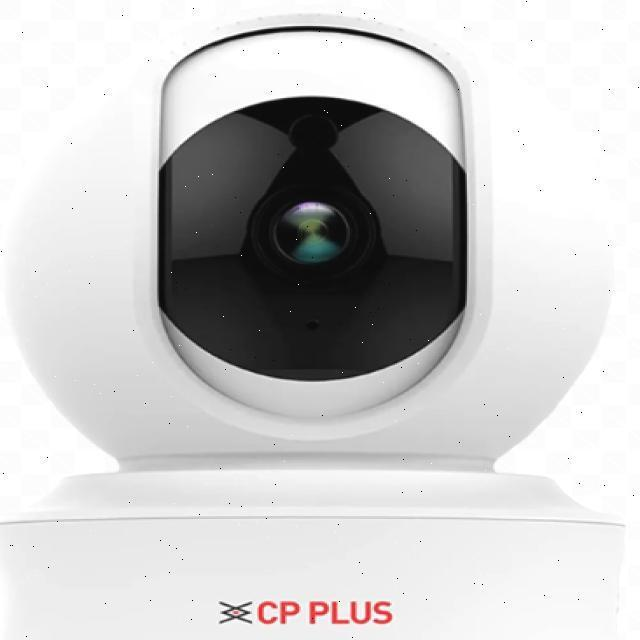cctv: (5, 7, 640, 497)
